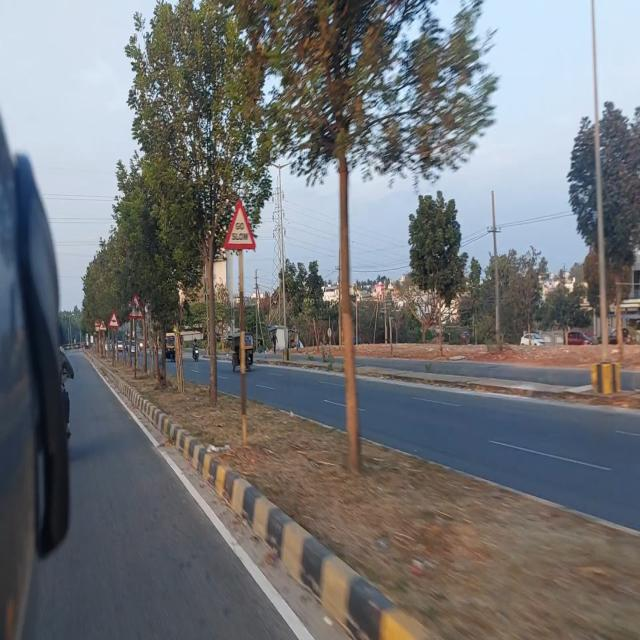bien_cam: (220, 193, 257, 250)
